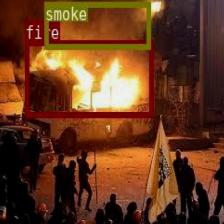fire: (25, 40, 152, 116)
smoke: (44, 1, 150, 49)
